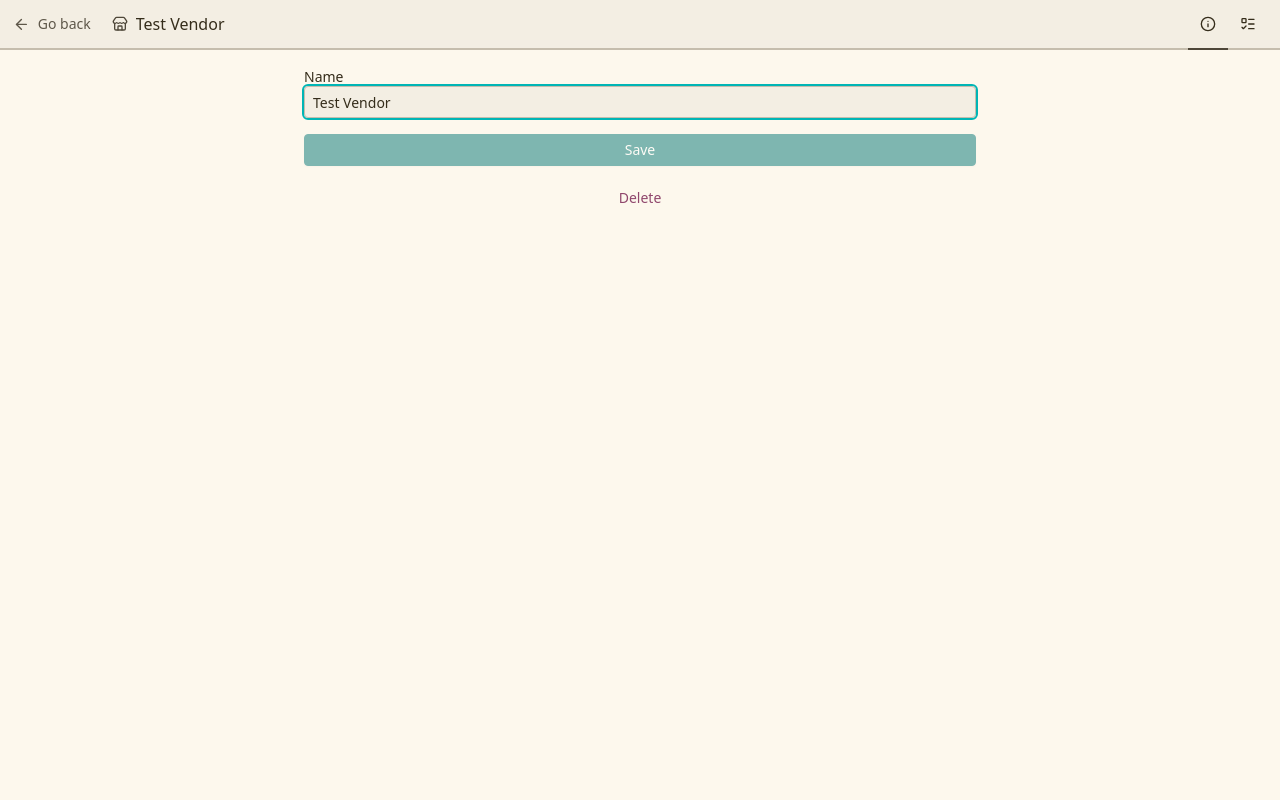
Test: Vendor Detail - Info Tab › user can navigate back with back button when navigation history exists
Expected: the heading "Test Vendor" is shown, [136,13,224,35]
When user clicks back button (now a button, not a link)
Click the button "Go back".
click(52, 24)  # box [12,8,92,40]
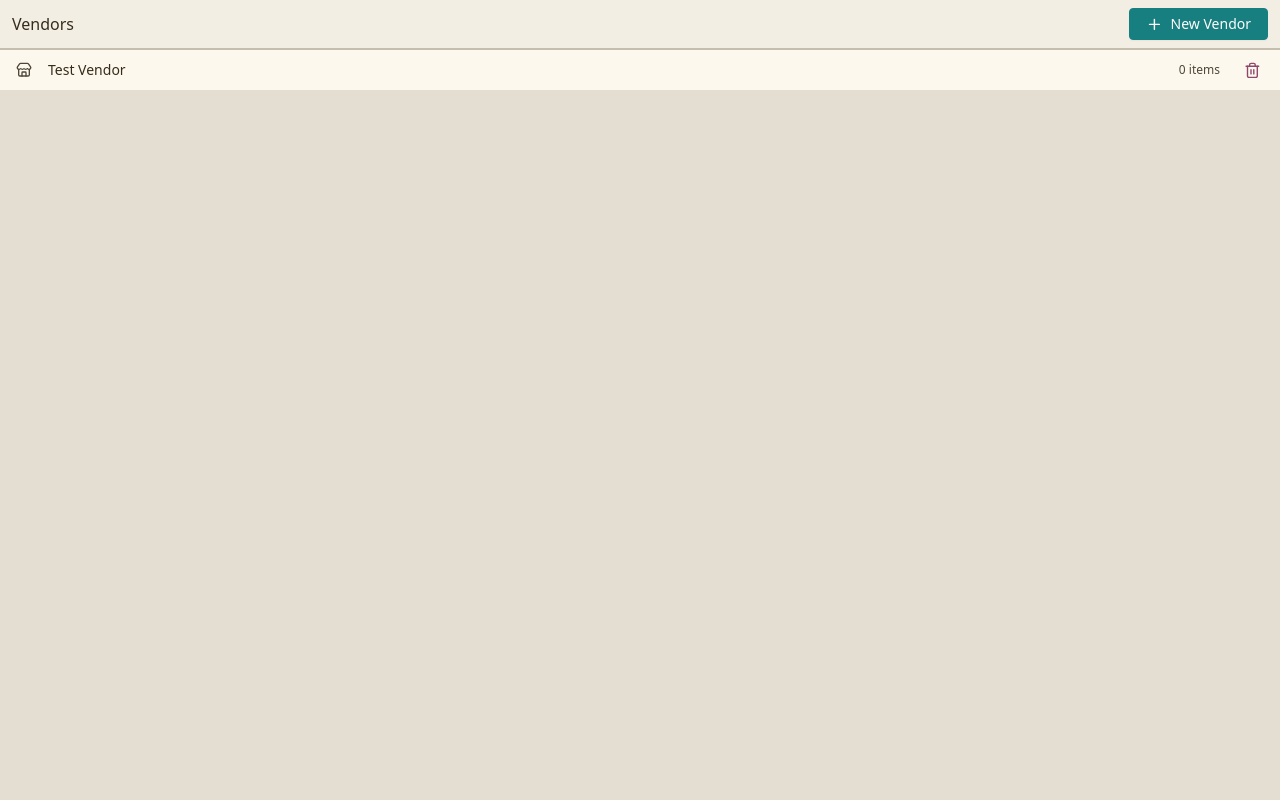
Expected: the heading "Vendors" is shown, [12,14,74,34]
Expected: the button "New Vendor" is shown, [1129,8,1268,40]
